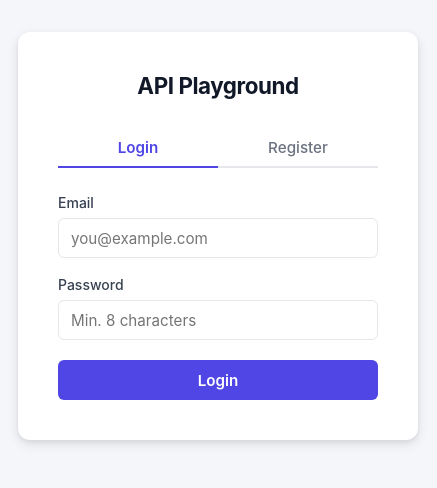
Test: AuthPage › shows error message on failed login
Step 1. Type "bad@example.com" into the field labelled "Email" → (218, 238), box top-left (58, 218), bottom-right (378, 258)
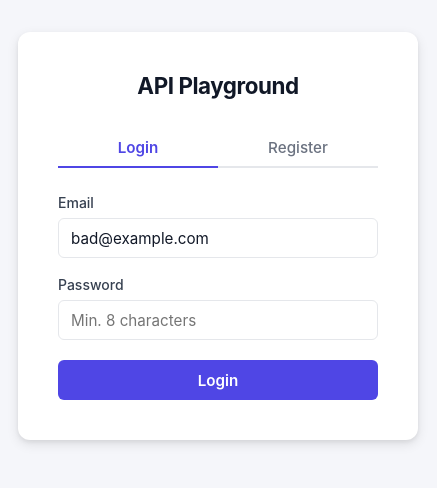
Step 2. Type "wrongpassword" into the password field labelled "Password" → (218, 320), box top-left (58, 300), bottom-right (378, 340)
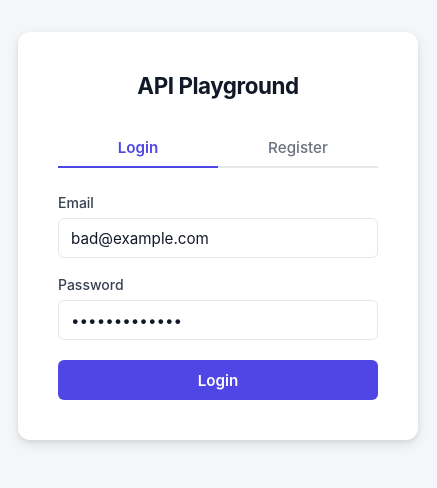
Step 3. Click the submit button → (218, 380), box top-left (58, 360), bottom-right (378, 400)
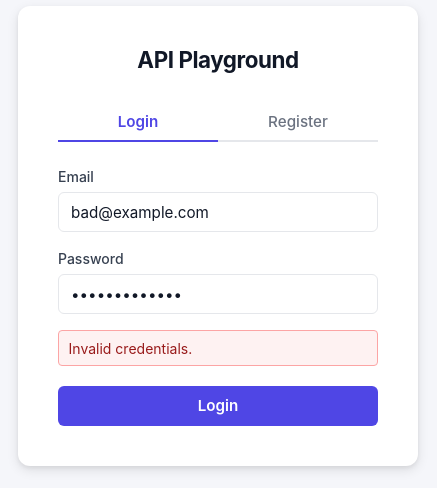
Now the text "Invalid credentials." is shown, box top-left (58, 330), bottom-right (378, 366)
